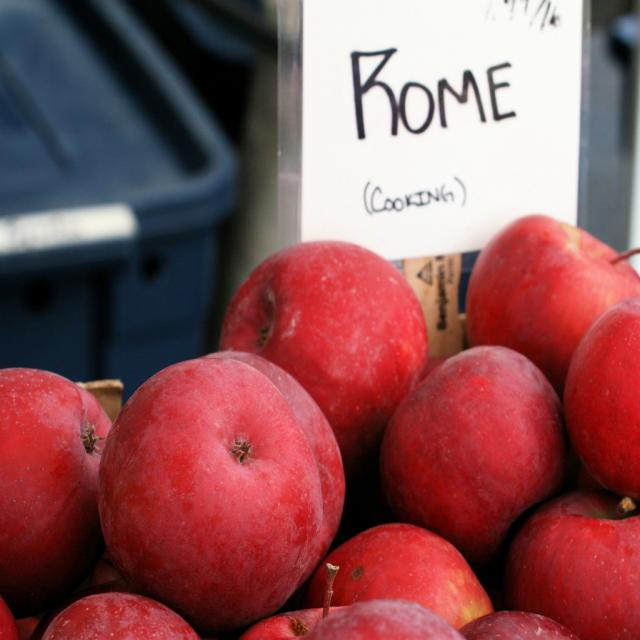Healty Apple: (0, 210, 640, 639), (101, 362, 339, 620)
